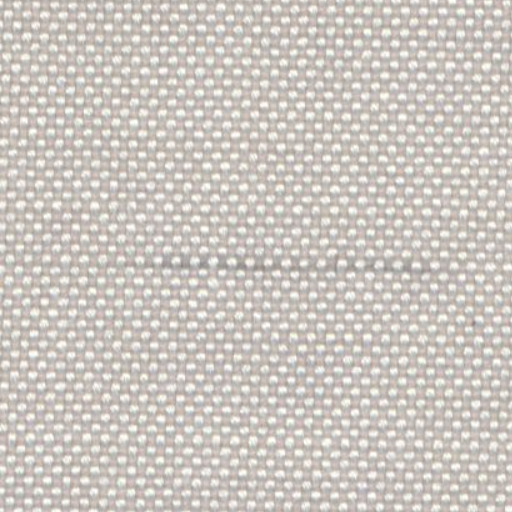WuZi: (108, 244, 442, 284)
